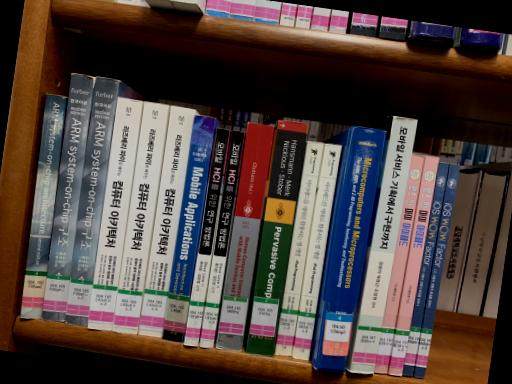book-spine: (350, 116, 418, 373), (316, 126, 386, 372), (245, 120, 308, 356), (216, 122, 275, 350), (113, 101, 170, 334), (42, 73, 95, 322), (66, 77, 119, 326), (138, 105, 194, 337), (88, 96, 142, 330), (163, 114, 216, 342), (388, 155, 439, 376), (374, 153, 425, 373), (19, 93, 67, 318), (292, 144, 342, 360), (275, 142, 324, 356), (402, 162, 450, 376), (413, 163, 460, 378), (184, 127, 230, 346), (200, 130, 245, 347)
